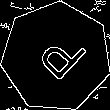P_SW: (25, 26, 87, 88)
